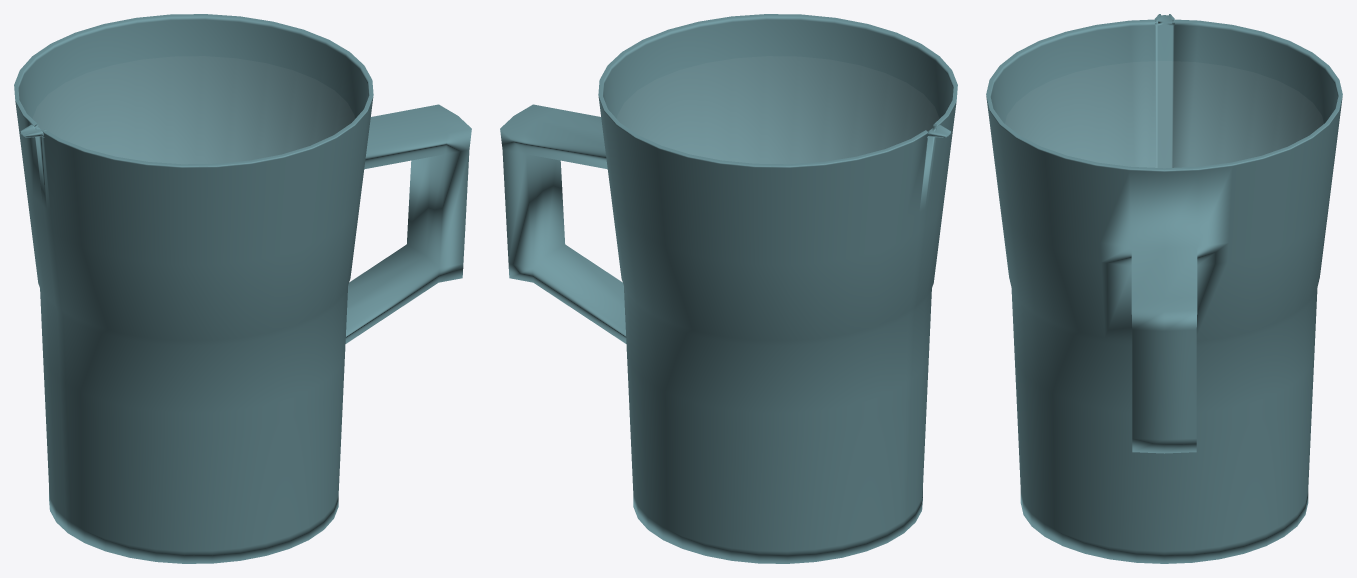
The model's file is pitserforwater6.fbx.
3 views of the same model, side by side, from view 1: azimuth 30°, elevation 25°; view 2: azimuth 150°, elevation 25°; view 3: azimuth 270°, elevation 25° (orthographic).
Visible parts, largest first — view 1: Cylinder.001; view 2: Cylinder.001; view 3: Cylinder.001.
Part boxes in pixels (x1,y1,x2,y2): Cylinder.001: [14, 14, 471, 563]; Cylinder.001: [500, 14, 957, 563]; Cylinder.001: [986, 14, 1342, 563].
Bounding box in the file's own units: 750 × 680 × 538.
